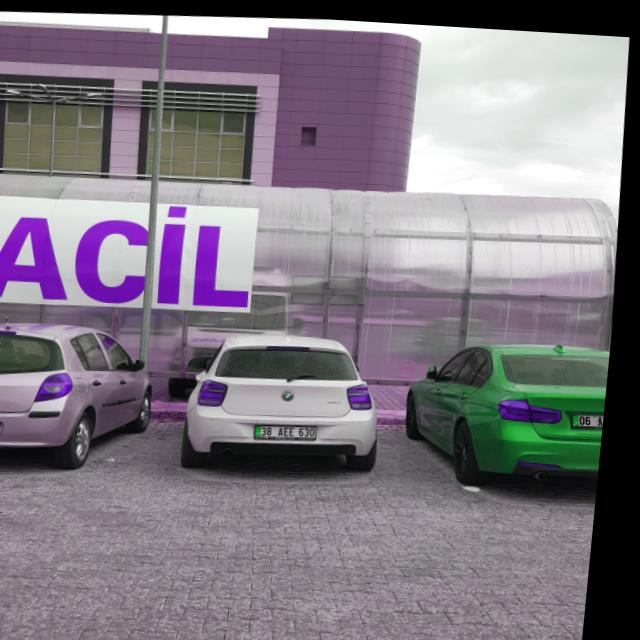license_plate: (262, 419, 325, 438), (578, 405, 611, 421), (0, 419, 9, 436)
